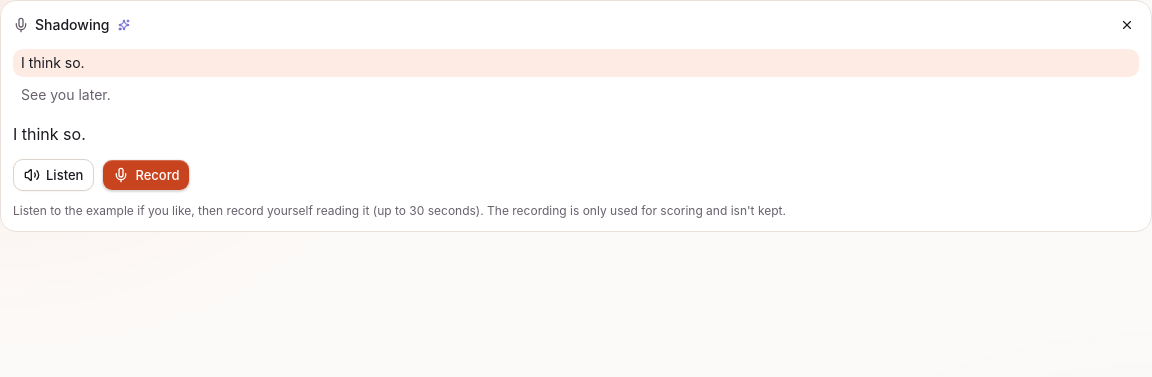
Test: ShadowingPanel › stops the example, records and shows the assessment
What coordinates should you click on to do the following:
click the button with test id "shadowing-record"
I would click on:
 (146, 175)
Its box is [102, 159, 190, 191].
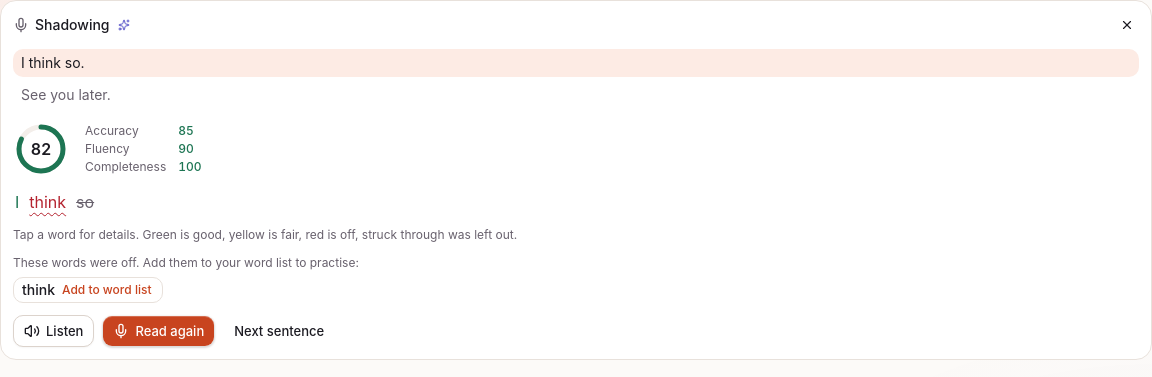
Expected: the text with test id "shadowing-overall" reads "82", [31, 139, 51, 159]
Expected: the button "think" is shown, [27, 189, 68, 215]
Expected: the button with test id "shadowing-record" reads "Read again", [102, 315, 215, 347]
